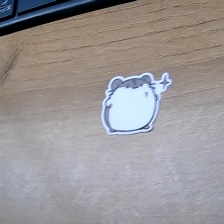mouse: (101, 71, 173, 136)
